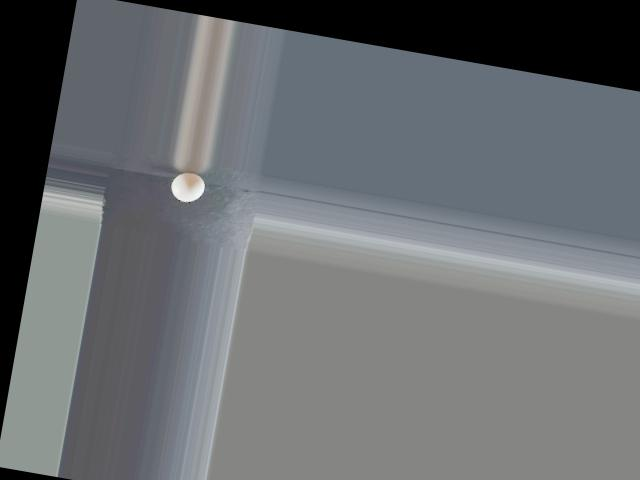egg: (169, 170, 207, 205)
